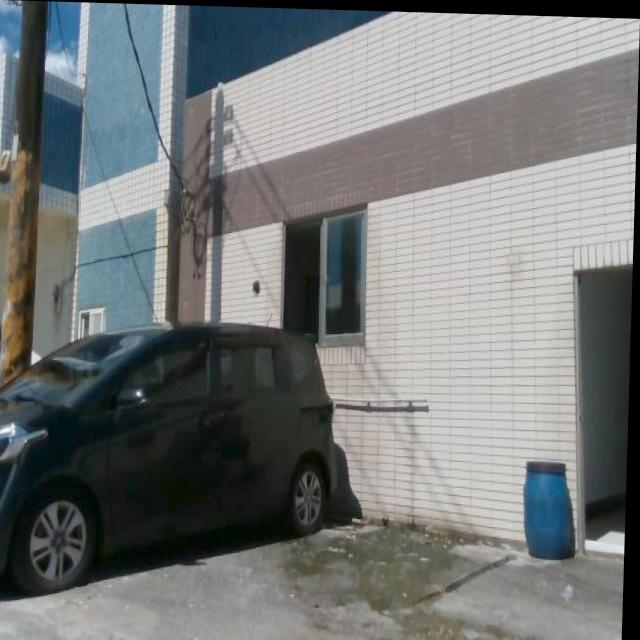pollute: (521, 455, 584, 562)
